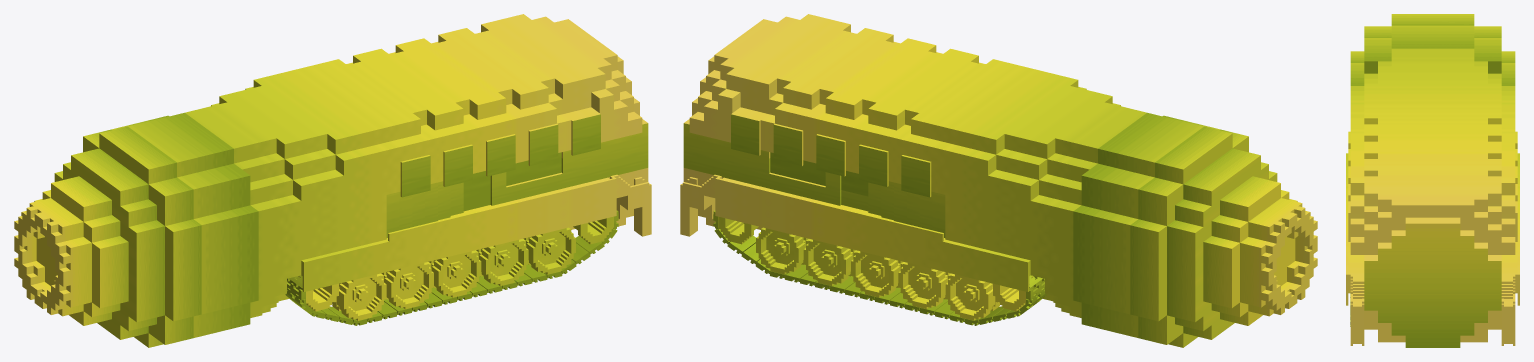
The model's file is tunnel_machine.glb.
3 renders of one model, left to right at view 1: azimuth 30°, elevation 25°; view 2: azimuth 150°, elevation 25°; view 3: azimuth 270°, elevation 25°, orthographic. The views are drawn at different scales.
Parts seen in each view (by area): view 1: cuerpo, drill1, ruedas, drill2, drill3, drill5, drill4, oruga1; view 2: cuerpo, drill1, ruedas.002, drill2, drill3, drill5, drill4, oruga1.002; view 3: cuerpo, drill1, drill2.
Part boxes in pixels (left/top/right/bottom): cuerpo: left=185, top=14, right=651, bottom=317; drill1: left=112, top=112, right=258, bottom=337; ruedas: left=298, top=216, right=613, bottom=320; drill2: left=83, top=126, right=201, bottom=347; drill3: left=54, top=148, right=164, bottom=339; drill5: left=14, top=198, right=91, bottom=316; drill4: left=34, top=176, right=128, bottom=325; oruga1: left=285, top=210, right=618, bottom=325; cuerpo: left=680, top=14, right=1146, bottom=317; drill1: left=1073, top=112, right=1219, bottom=337; ruedas.002: left=718, top=216, right=1033, bottom=320; drill2: left=1130, top=126, right=1248, bottom=347; drill3: left=1167, top=148, right=1277, bottom=339; drill5: left=1240, top=198, right=1317, bottom=316; drill4: left=1203, top=176, right=1297, bottom=325; oruga1.002: left=713, top=210, right=1046, bottom=325; cuerpo: left=1346, top=48, right=1519, bottom=347; drill1: left=1350, top=25, right=1515, bottom=85; drill2: left=1350, top=14, right=1515, bottom=62.
Bounding box in the file's own units: 80 × 24.67 × 25.33.
Materials: 1 (1 with a texture image).
